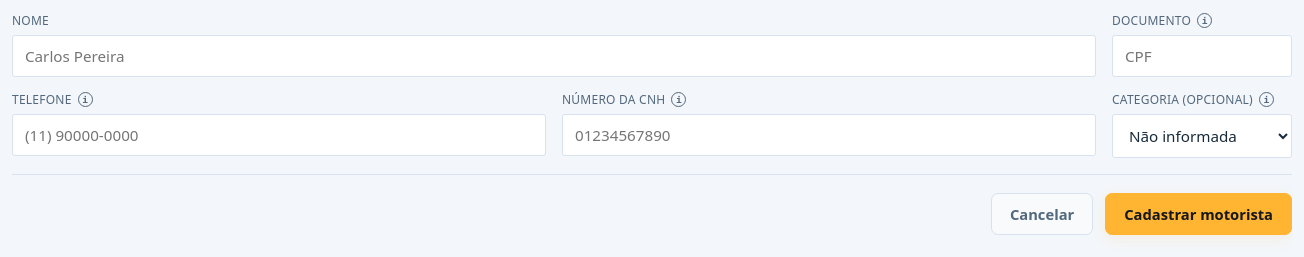
Test: DriverForm › a CNH não aceita pontuação, porque o backend não aceita
In the field labelled "NÚMERO DA CNH": (829, 135) left=562, top=114, right=1096, bottom=156, type "123.456.789-00"
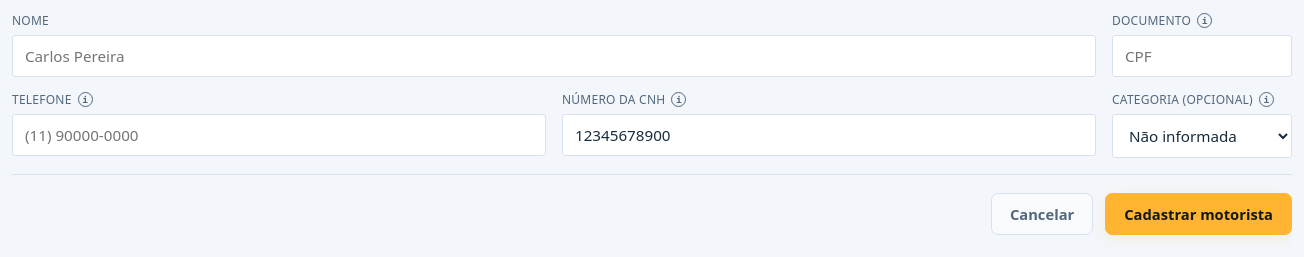
Now the field labelled "NÚMERO DA CNH" holds "12345678900", box left=562, top=114, right=1096, bottom=156
